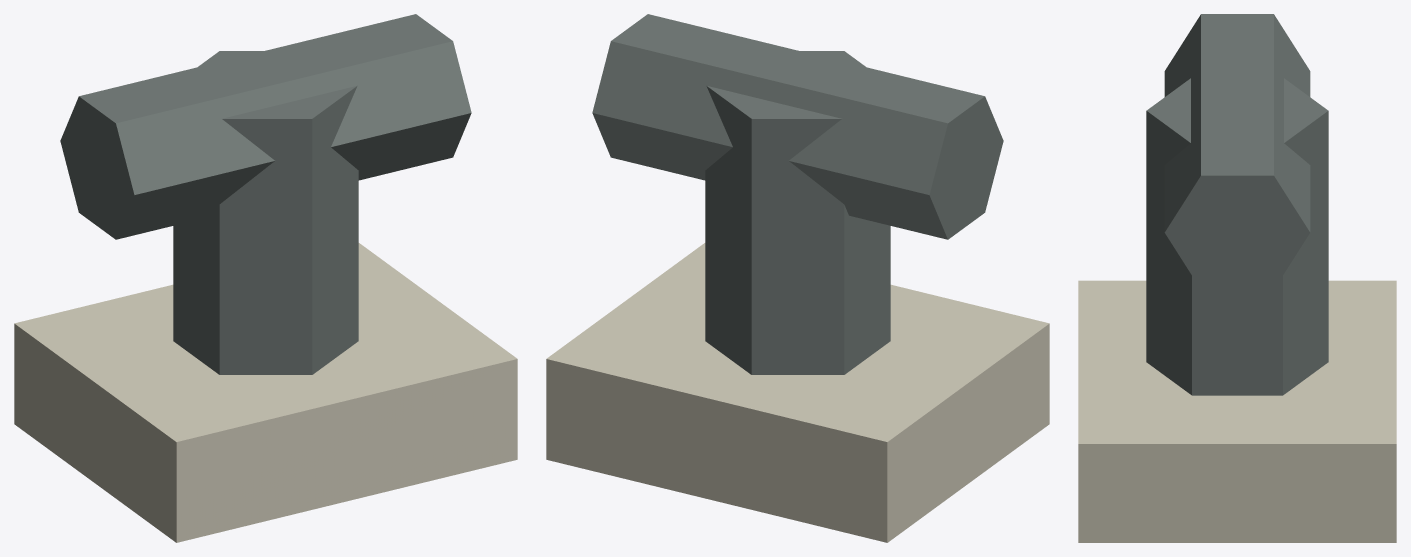
The picture shows the model from 3 angles, left to right: view 1: azimuth 30°, elevation 25°; view 2: azimuth 150°, elevation 25°; view 3: azimuth 270°, elevation 25°; orthographic projection.
Bounding box in the file's own units: 0.85 × 0.8886 × 0.7.
